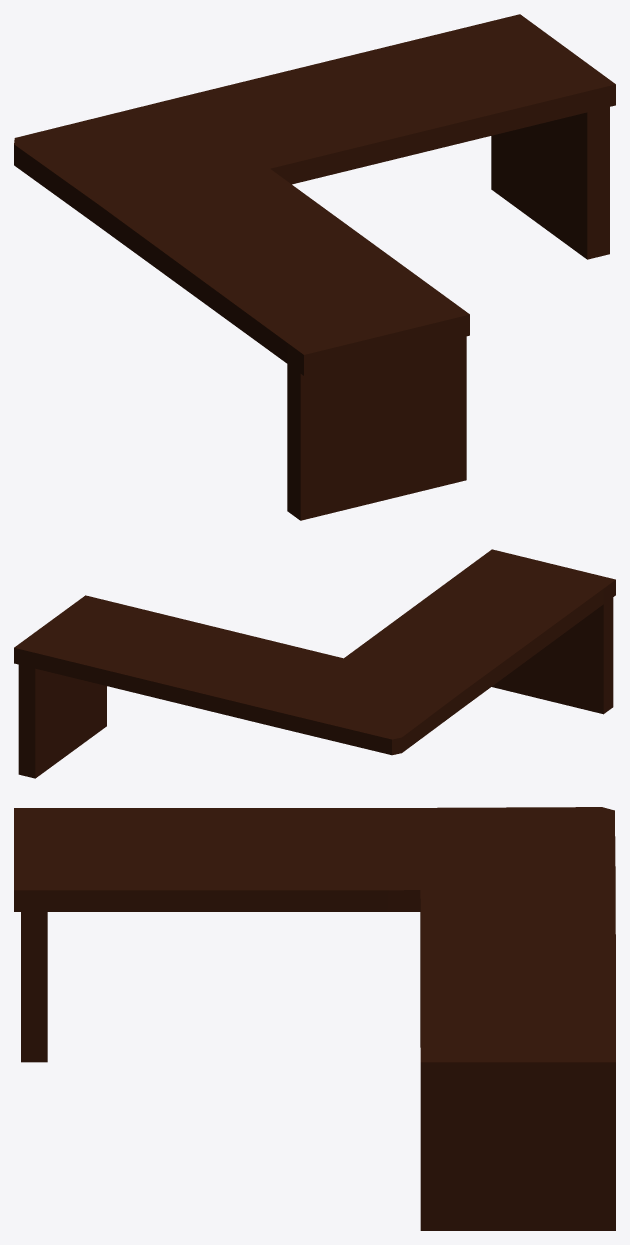
Rendered from BLS_SalesDesk_Shanna.fbx.
3 views of the same model, one above another, from view 1: azimuth 30°, elevation 25°; view 2: azimuth 150°, elevation 25°; view 3: azimuth 270°, elevation 25° (orthographic). The views are drawn at different scales.
Parts seen in each view (by area): view 1: Cube; view 2: Cube; view 3: Cube.
Boxes of the visible parts, x1,y1,x2,y2 form: Cube: (14,14,615,520); Cube: (14,549,615,778); Cube: (14,807,615,1230).
Size of the model in its own units: 734 by 230 by 732.
